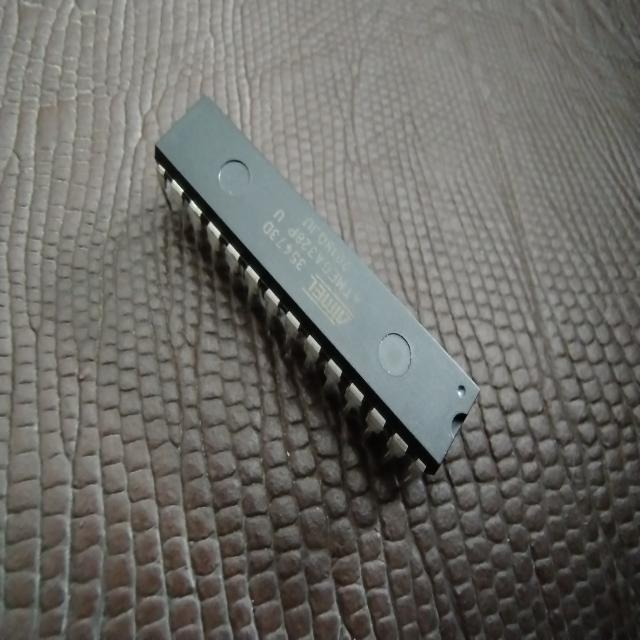atmega: (152, 92, 482, 480)
